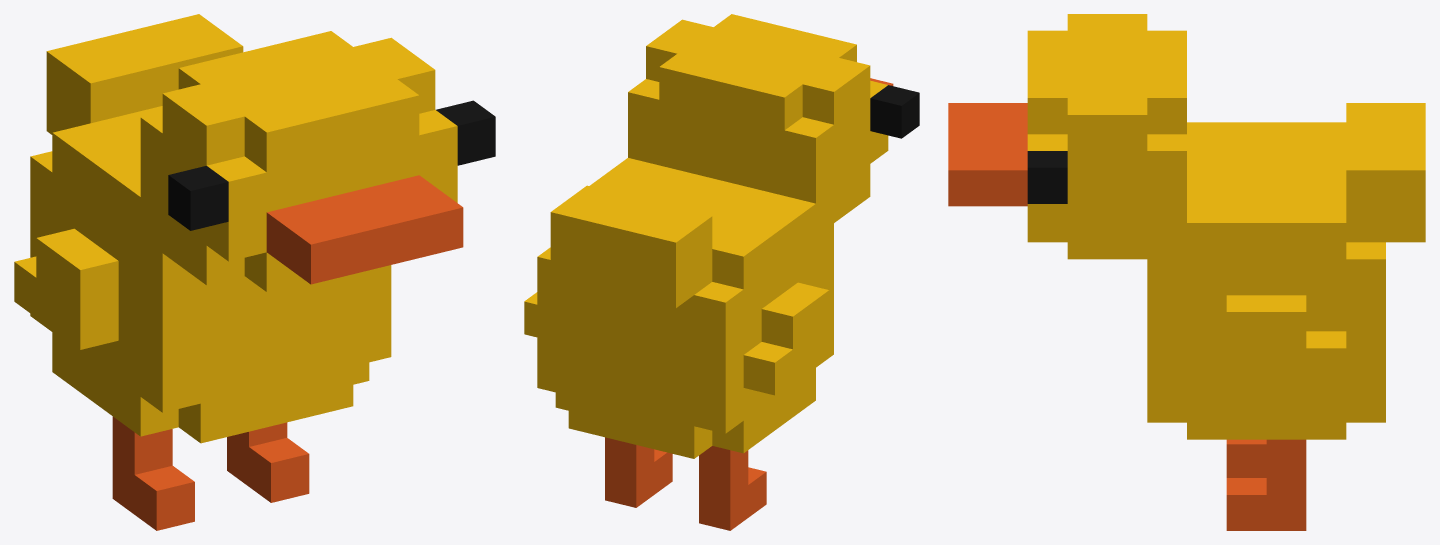
Rendered from CoinCoin.gltf.
3 renders of one model, left to right at view 1: azimuth 30°, elevation 25°; view 2: azimuth 150°, elevation 25°; view 3: azimuth 270°, elevation 25°, orthographic. The views are drawn at different scales.
Visible parts, largest first — view 1: ObjObject.001; view 2: ObjObject.001; view 3: ObjObject.001.
Part boxes in pixels (box(x1,y1,x2,y2)): ObjObject.001: box(14, 14, 495, 530); ObjObject.001: box(524, 14, 919, 530); ObjObject.001: box(948, 14, 1425, 530).
Bounding box in the file's own units: 0.8 × 1.2 × 1.2.
1 material, 1 textured.
